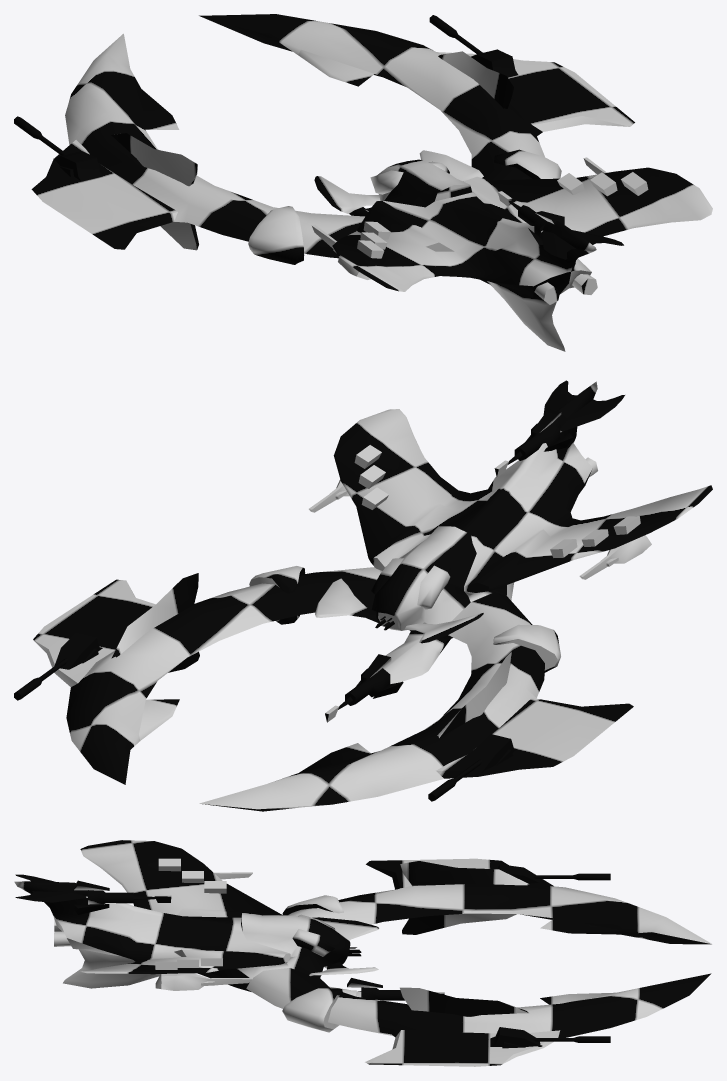
File: goliath.obj
3 renders of one model, top to bottom at view 1: azimuth 30°, elevation 25°; view 2: azimuth 150°, elevation 25°; view 3: azimuth 270°, elevation 25°, orthographic. The views are drawn at different scales.
Parts seen in each view (by area): view 1: main; view 2: main; view 3: main.
Boxes of the visible parts, left/top/right/bottom form: main: left=14, top=14, right=712, bottom=351; main: left=14, top=380, right=712, bottom=811; main: left=14, top=840, right=712, bottom=1066.
Bounding box in the file's own units: 141 × 39.53 × 200.
1 material, 1 textured.
